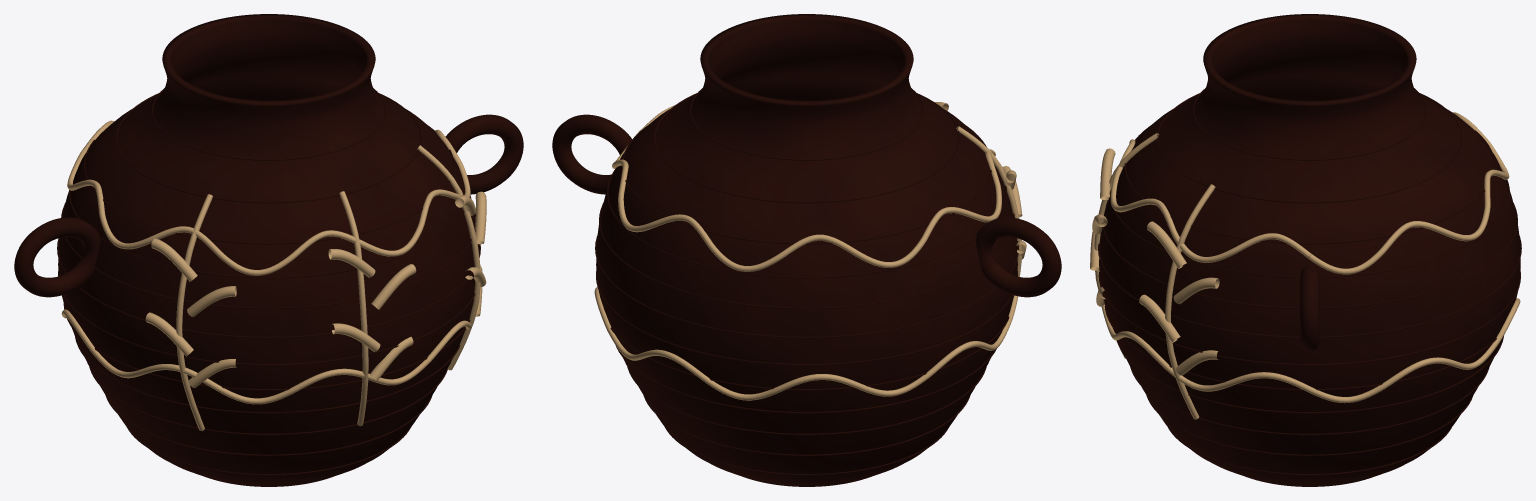
File: bcm-1120.glb
3 views of the same model, side by side, from view 1: azimuth 30°, elevation 25°; view 2: azimuth 150°, elevation 25°; view 3: azimuth 270°, elevation 25° (orthographic).
Parts seen in each view (by area): view 1: Continuous hollow vessel with formed lip, Finger-drawn glaze motif (approximate); view 2: Continuous hollow vessel with formed lip, Finger-drawn glaze motif (approximate); view 3: Continuous hollow vessel with formed lip, Finger-drawn glaze motif (approximate).
Boxes of the visible parts, bbox=[...] form: Continuous hollow vessel with formed lip: bbox=[14, 14, 523, 486]; Finger-drawn glaze motif (approximate): bbox=[61, 120, 486, 430]; Continuous hollow vessel with formed lip: bbox=[552, 14, 1061, 486]; Finger-drawn glaze motif (approximate): bbox=[594, 102, 1026, 400]; Continuous hollow vessel with formed lip: bbox=[1098, 14, 1521, 486]; Finger-drawn glaze motif (approximate): bbox=[1090, 112, 1520, 419].
Bounding box in the file's own units: 1.32 × 0.96 × 0.9717.
